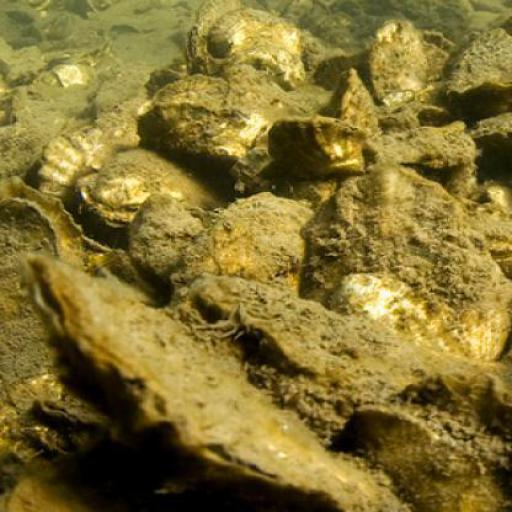Oyster-Closed: (21, 270, 367, 506), (307, 165, 512, 361), (268, 116, 369, 182), (44, 130, 134, 202), (376, 24, 430, 103), (453, 31, 512, 98)
Oyster-Open: (339, 382, 512, 512), (143, 74, 252, 155)
